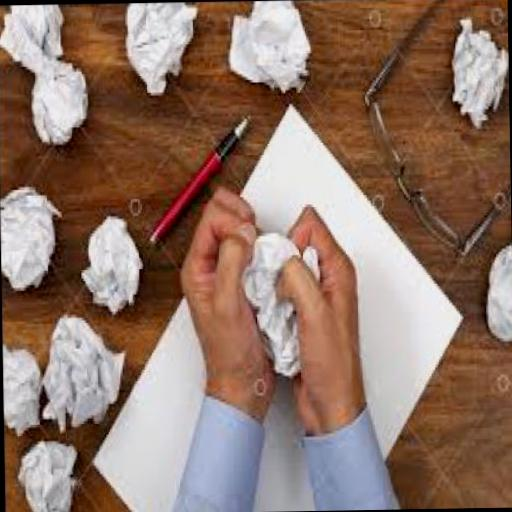paper: (88, 94, 470, 512), (244, 222, 322, 381), (44, 310, 127, 432), (227, 0, 314, 92), (124, 2, 200, 94), (0, 182, 64, 290), (82, 208, 142, 310), (450, 12, 508, 117), (32, 56, 90, 144), (18, 433, 80, 512), (2, 339, 46, 436), (0, 4, 65, 66), (487, 236, 512, 344)
